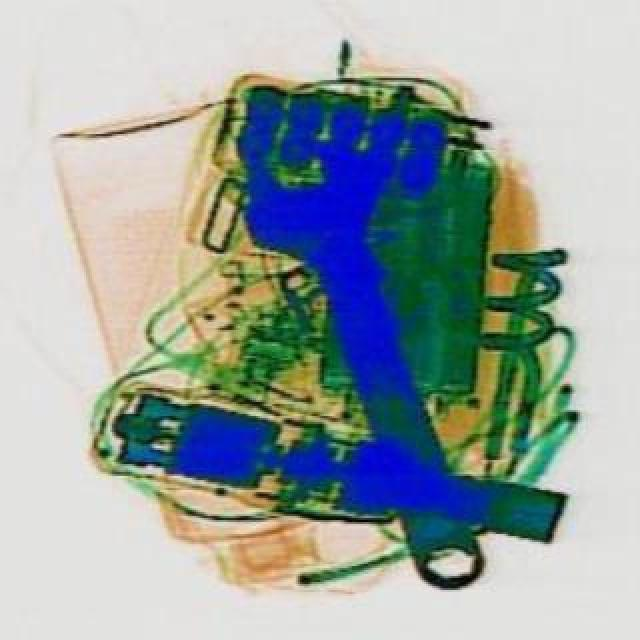scissors: (220, 120, 516, 608)
